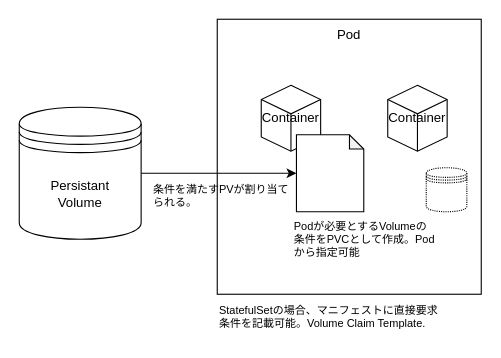
Image size: 501x358. Some labels were removed from this diagram. The shapes that lost their labels are listed below. From the top down, each one's centre as x and y in pixels, then its label:
[329,173]: Persistant Volume Claim
[446,189]: Volume
